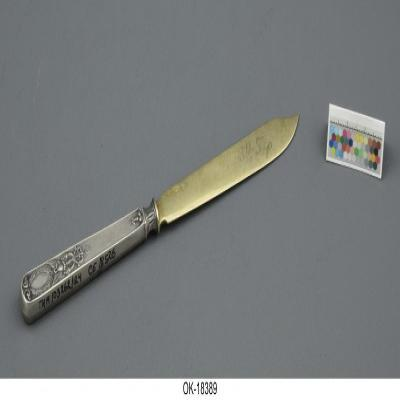dpi: (19, 115, 299, 326)
